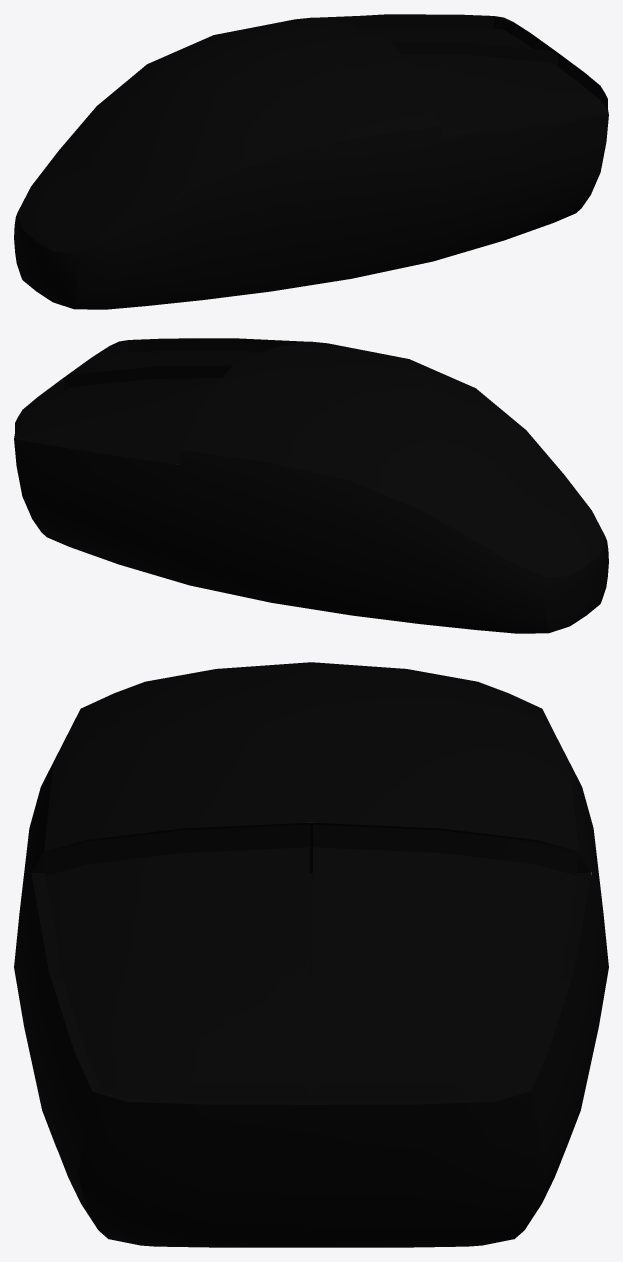
Rendered from Office_-_mouse.001.gltf.
3 renders of one model, top to bottom at view 1: azimuth 30°, elevation 25°; view 2: azimuth 150°, elevation 25°; view 3: azimuth 270°, elevation 25°, orthographic. The views are drawn at different scales.
Visible parts, largest first — view 1: Office - mouse_mesh; view 2: Office - mouse_mesh; view 3: Office - mouse_mesh.
Part boxes in pixels (bbox=[...]): Office - mouse_mesh: bbox=[14, 14, 608, 309]; Office - mouse_mesh: bbox=[14, 338, 608, 633]; Office - mouse_mesh: bbox=[14, 662, 608, 1247].
Size of what is drawn, in the model's own units: 0.1368 by 0.0436 by 0.0733.
1 material, 1 textured.
